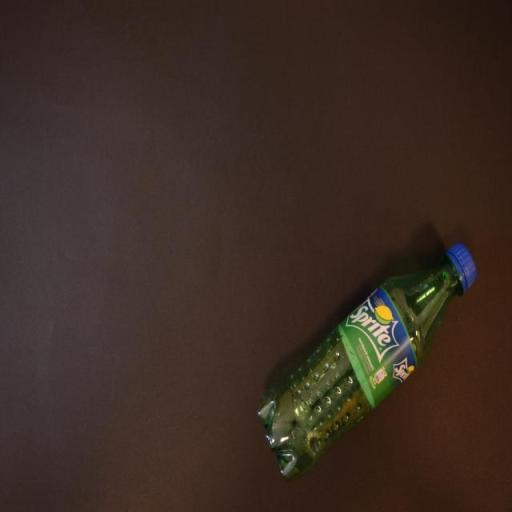plastic: (253, 240, 480, 482)
